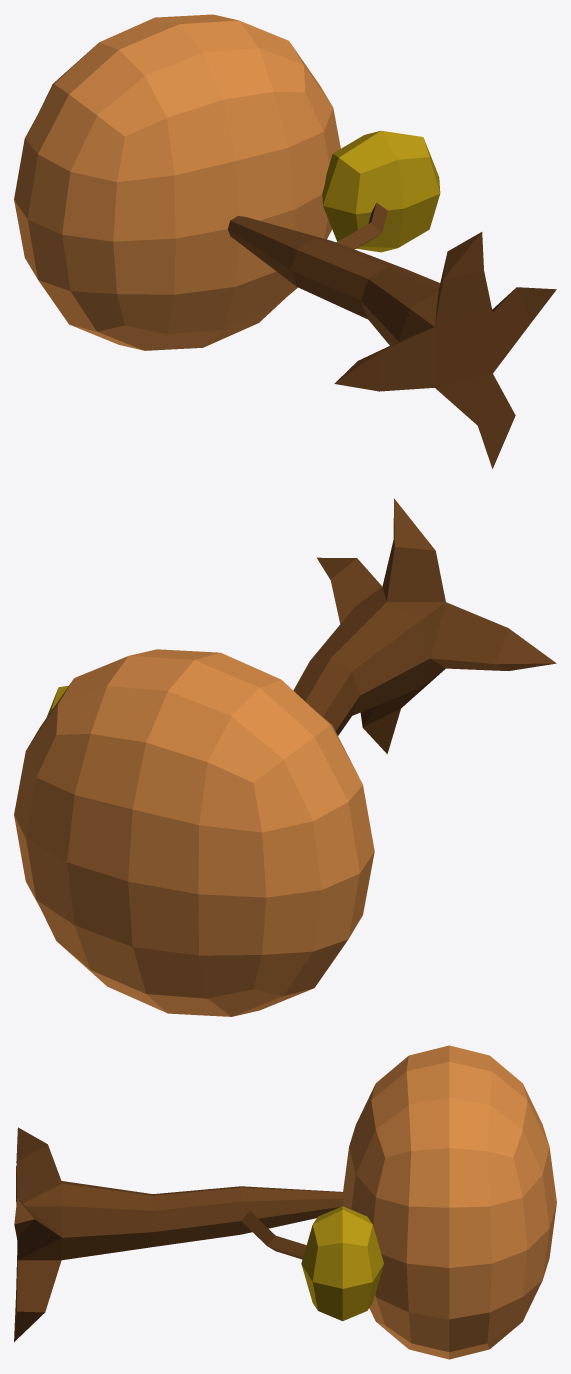
The model's file is tree_1_engine.fbx.
3 views of the same model, one above another, from view 1: azimuth 30°, elevation 25°; view 2: azimuth 150°, elevation 25°; view 3: azimuth 270°, elevation 25° (orthographic). The views are drawn at different scales.
Visible parts, largest first — view 1: Cube; view 2: Cube; view 3: Cube.
Part boxes in pixels (left/top/right/bottom): Cube: left=14, top=14, right=556, bottom=468; Cube: left=14, top=498, right=556, bottom=1016; Cube: left=14, top=1045, right=556, bottom=1359.
Bounding box in the file's own units: 80704 × 69490 × 121514.
